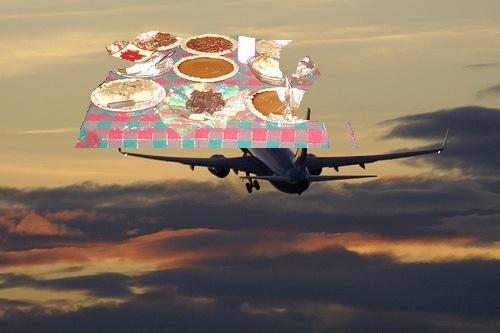tampered: (76, 32, 358, 148)
